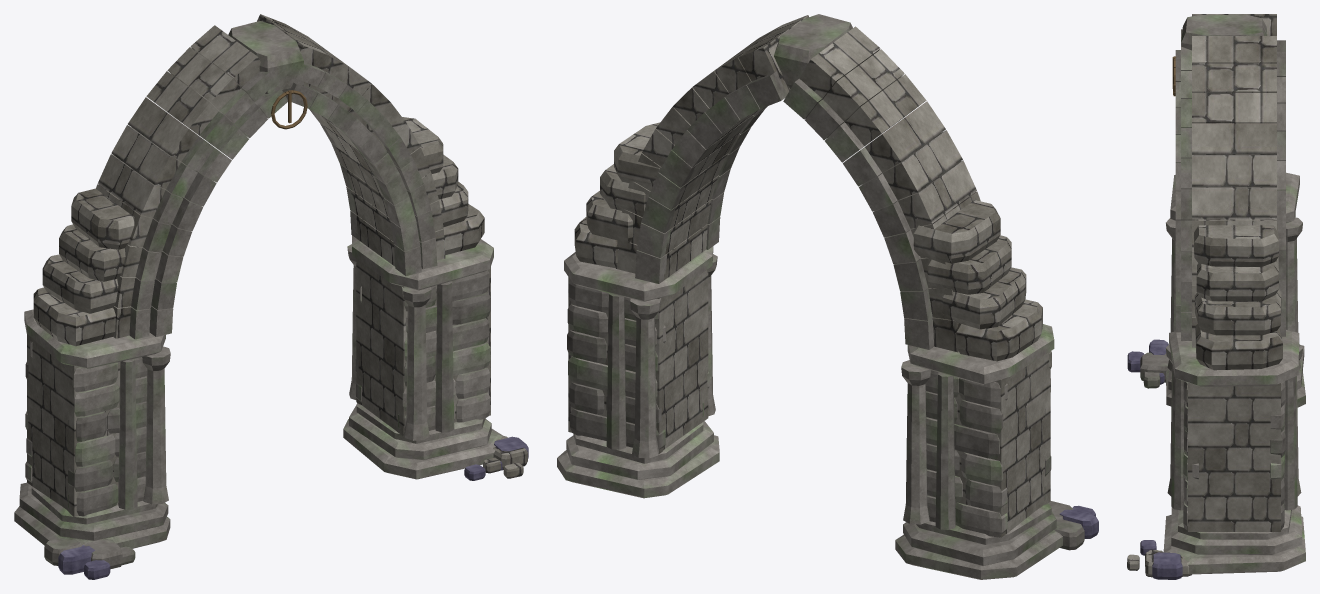
Rendered from chapel-arch.glb.
3 views of the same model, side by side, from view 1: azimuth 30°, elevation 25°; view 2: azimuth 150°, elevation 25°; view 3: azimuth 270°, elevation 25° (orthographic). The views are drawn at different scales.
Visible parts, largest first — view 1: chapel-arch; view 2: chapel-arch; view 3: chapel-arch.
Part boxes in pixels (x1,y1,x2,y2): chapel-arch: (14,14,528,579); chapel-arch: (557,14,1098,579); chapel-arch: (1127,14,1305,579).
Size of the model in its own units: 5.89 by 5.43 by 1.98.
Materials: 4 (3 with a texture image).
